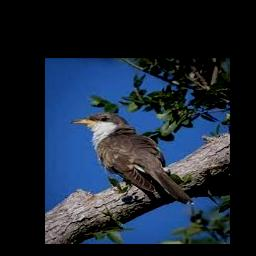Cuckoo: (72, 113, 195, 204)
